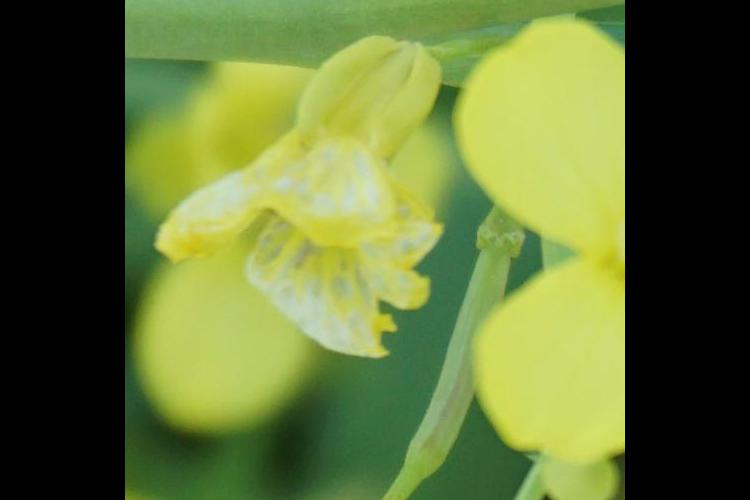pod: (355, 209, 525, 500)
yellow: (166, 26, 449, 363), (455, 19, 625, 468)
